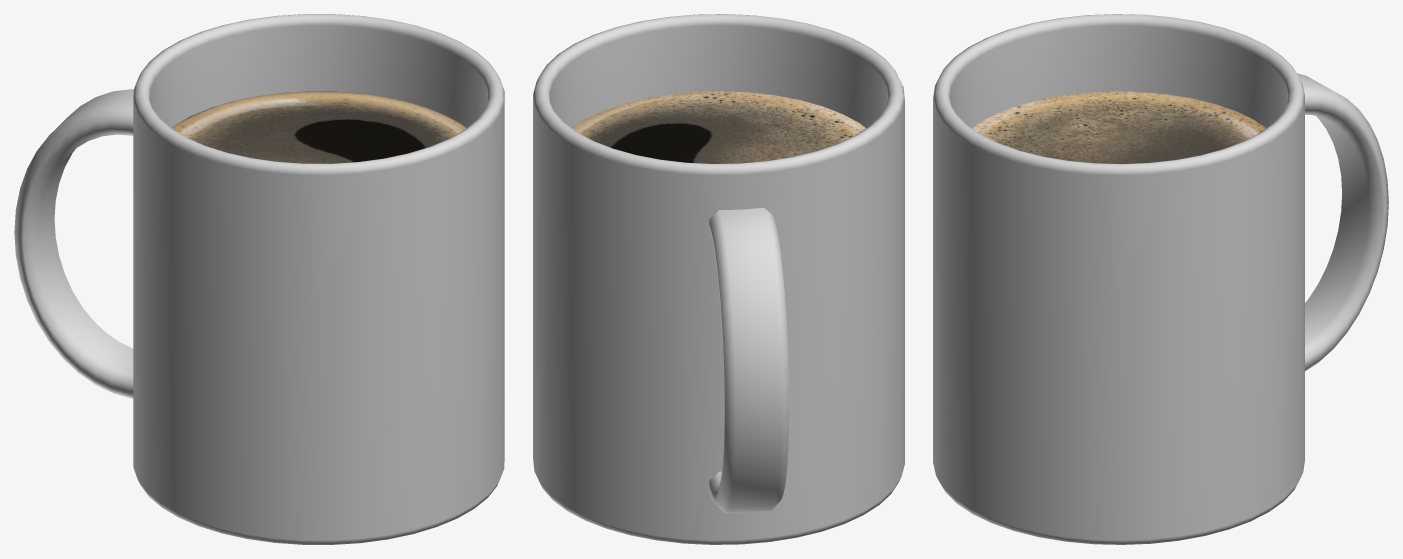
3 views of the same model, side by side, from view 1: azimuth 30°, elevation 25°; view 2: azimuth 150°, elevation 25°; view 3: azimuth 270°, elevation 25° (orthographic).
Visible parts, largest first — view 1: Mug1; view 2: Mug1; view 3: Mug1.
Part boxes in pixels (x1=…): Mug1: x1=14, y1=14, x2=504, y2=544; Mug1: x1=533, y1=14, x2=904, y2=544; Mug1: x1=933, y1=14, x2=1388, y2=544.
Size of the model in its own units: 2.78 by 2.93 by 3.17.
2 materials, 1 textured.
